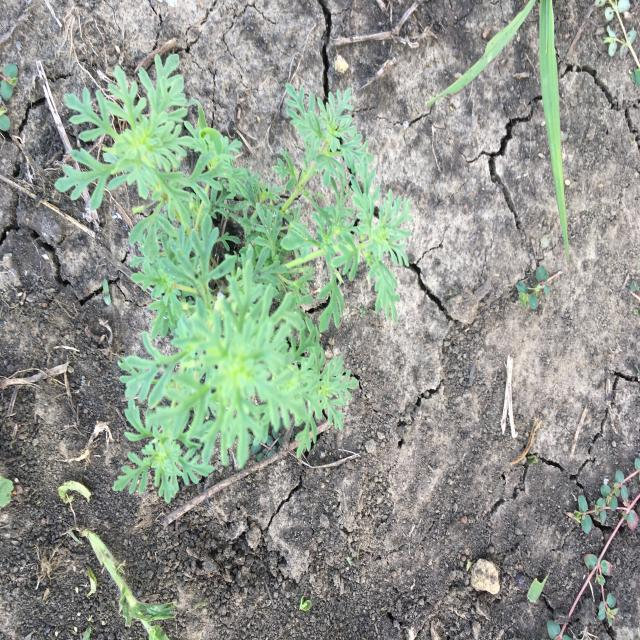Ragweed: (52, 52, 415, 506)
SpottedSpurge: (546, 454, 638, 639), (513, 264, 552, 311)
